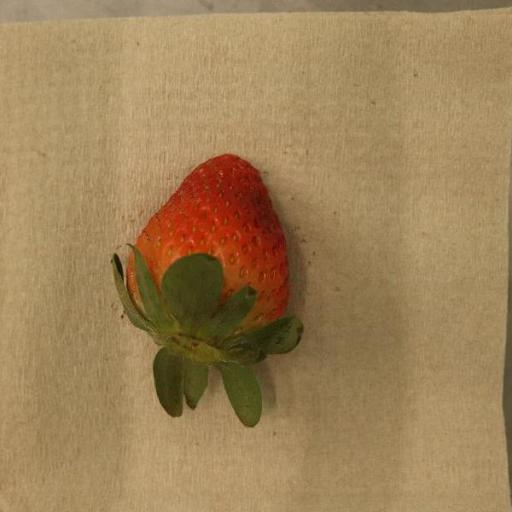Strawberry: (112, 154, 304, 429)
